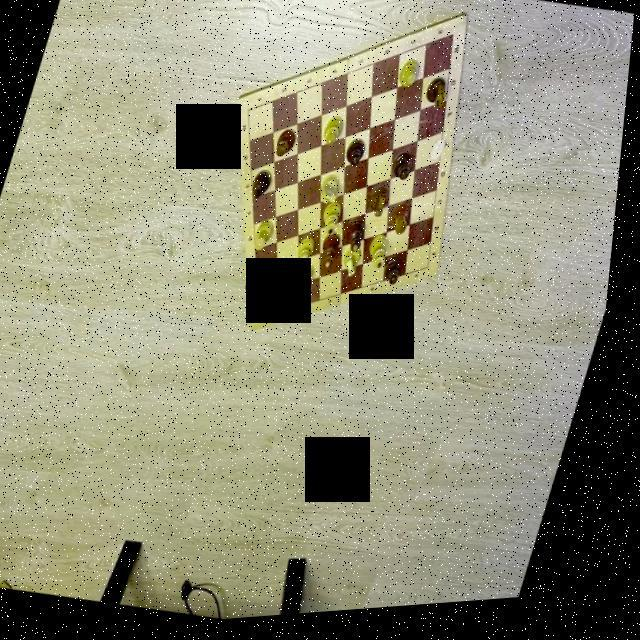chess-table-corners: (429, 271, 436, 278), (451, 38, 457, 46), (248, 111, 254, 118), (262, 321, 266, 326)
